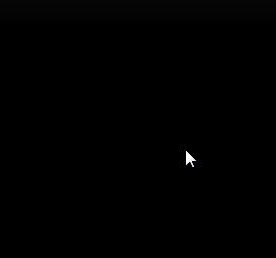cursor: (183, 148, 197, 169)
